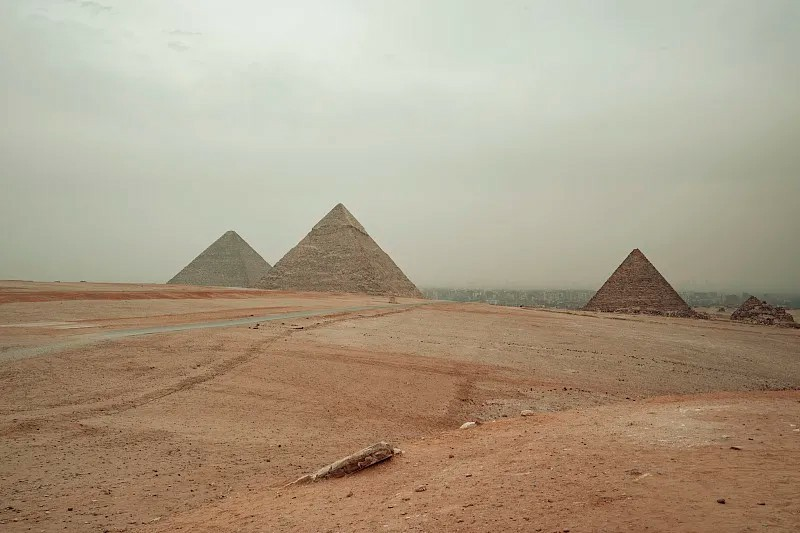Pyramid: (254, 203, 424, 299), (584, 250, 702, 319), (164, 232, 272, 290)
